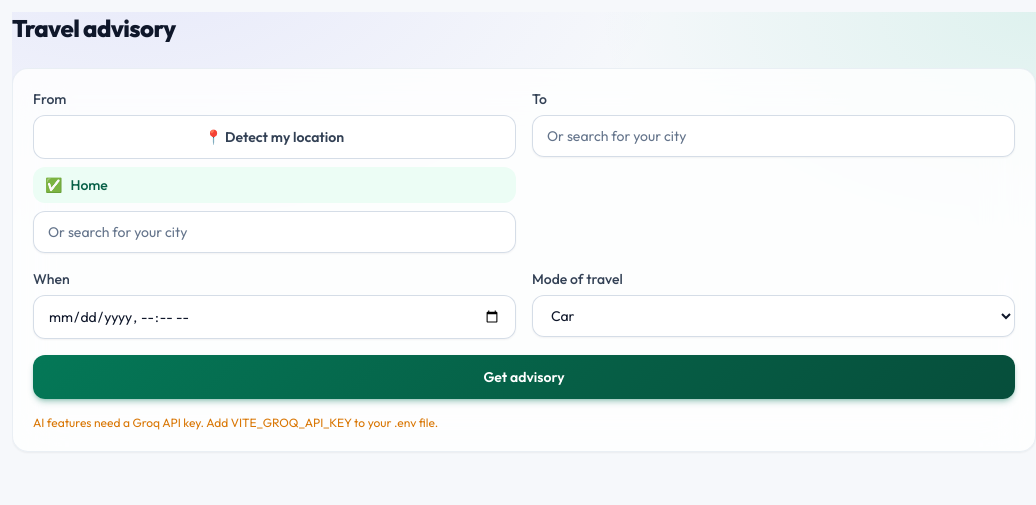
Scenario: Travel advisory flow › shows the no-Groq-key message when AI is unconfigured
Click the button "Get advisory".
click(524, 377)  # box x1=33 y1=355 x2=1015 y2=399
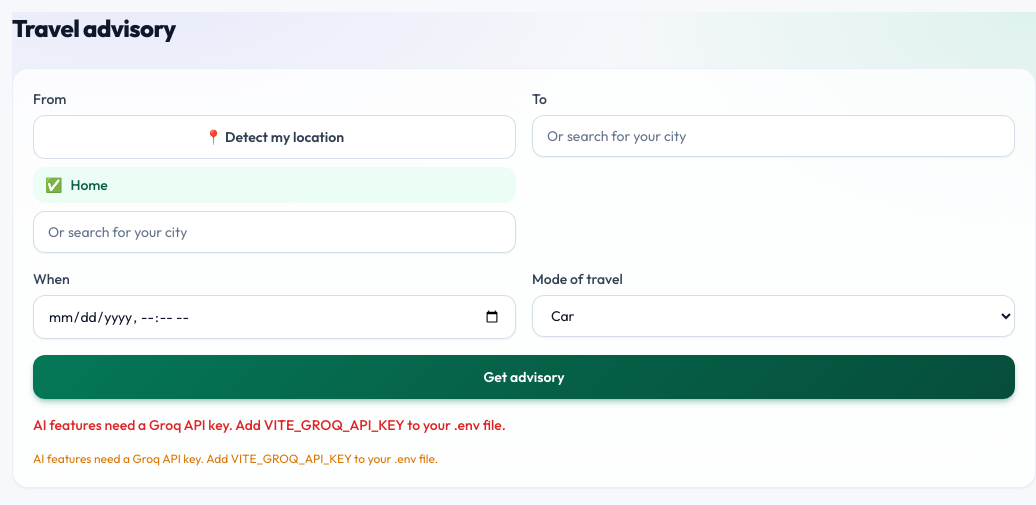
Result: the text "AI features need a Groq API key. Add VITE_GROQ_API_KEY to your .env file." is shown at x1=33 y1=416 x2=506 y2=434
